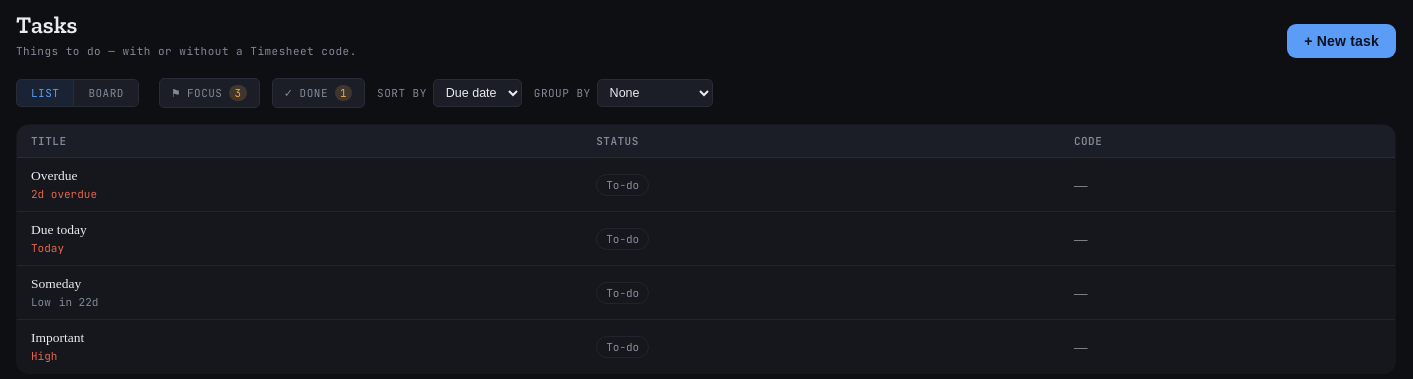
Test: TasksScreen › Focus filter narrows the list to overdue, due-today, and high-priority tasks
Expected: the text with class "wk-task-focus-count" reads "3", [234,86,242,100]
Expected: the text "Someday" is shown, [31,276,81,291]
What coordinates should you click on to do the following:
click the button with test id "wk-task-focus"
I would click on:
 (209, 93)
Its box is [159,78,260,108].
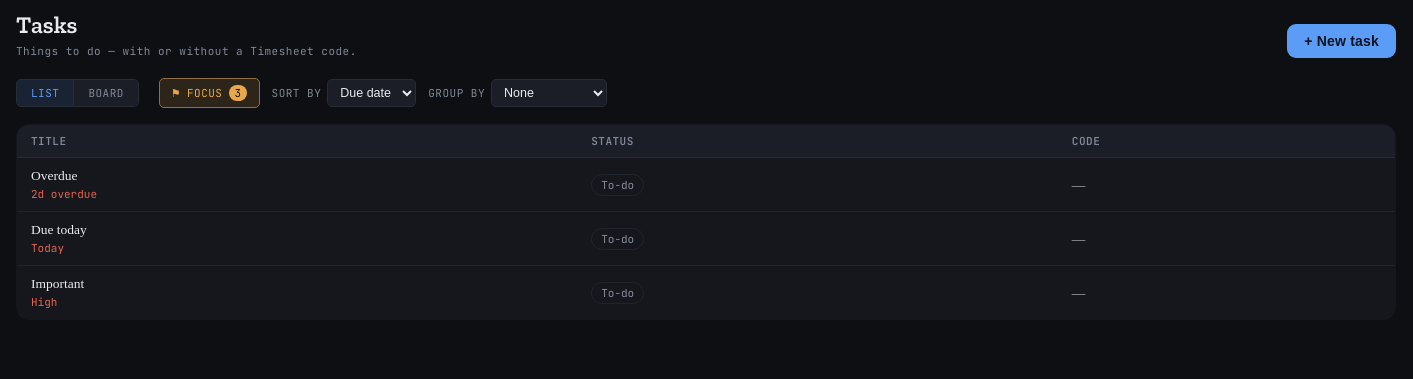
Expected: the text "Overdue" is shown, [31,168,78,183]
Result: the text "Someday" is gone
